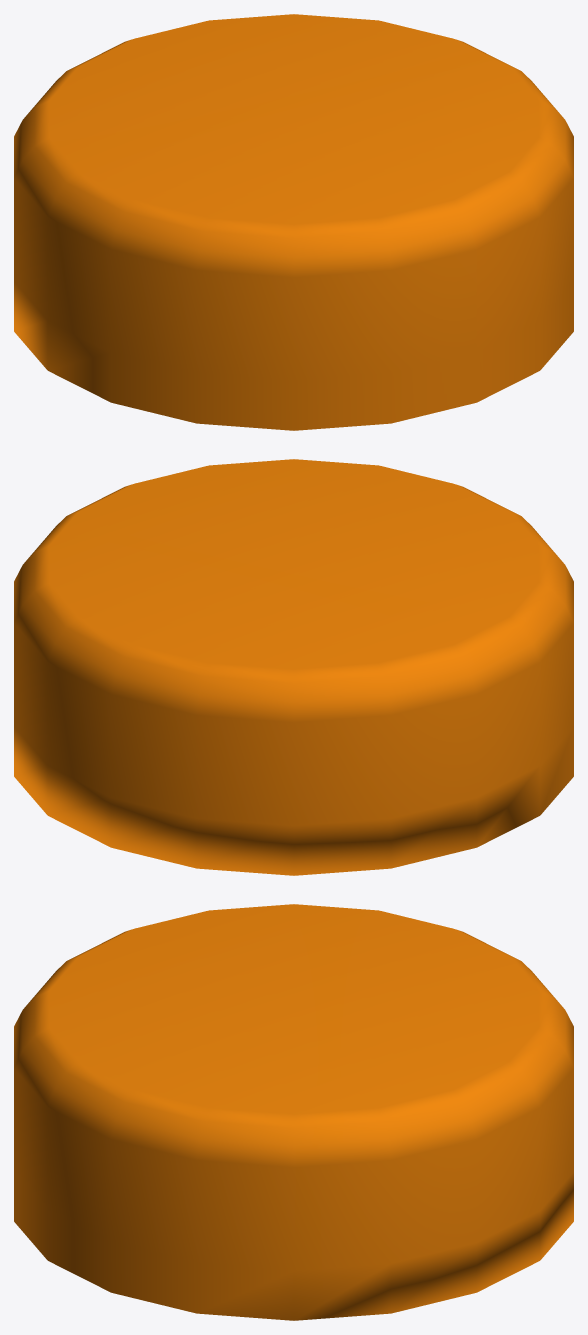
The model's file is _eadcube1.fbx.
The picture shows the model from 3 angles, top to bottom: view 1: azimuth 30°, elevation 25°; view 2: azimuth 150°, elevation 25°; view 3: azimuth 270°, elevation 25°; orthographic projection.
Parts seen in each view (by area): view 1: head_cube1; view 2: head_cube1; view 3: head_cube1.
Boxes of the visible parts, bbox=[...] form: head_cube1: bbox=[14, 14, 573, 430]; head_cube1: bbox=[14, 459, 573, 875]; head_cube1: bbox=[14, 904, 573, 1320].
Bounding box in the file's own units: 60.87 × 22.62 × 59.94.
